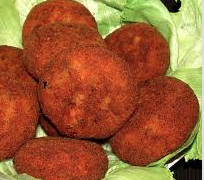cutlet: (39, 48, 137, 133), (139, 79, 200, 160), (26, 24, 105, 75), (15, 141, 117, 180), (104, 22, 171, 80), (1, 70, 39, 160)
